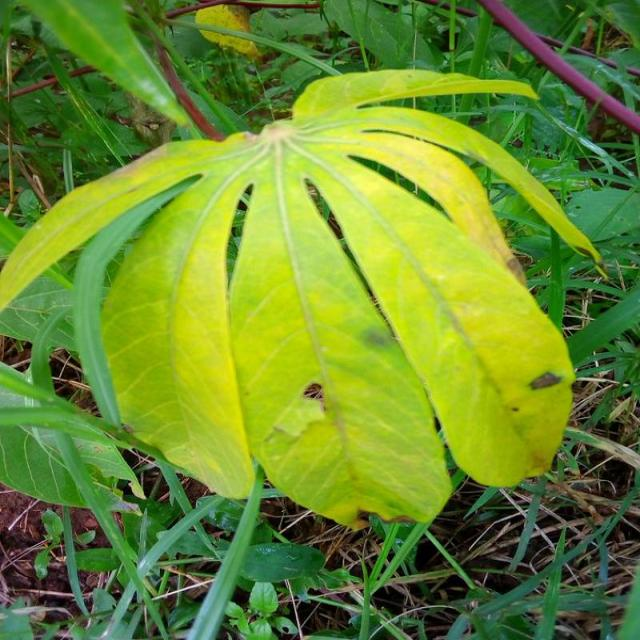cassava leaf: (1, 67, 603, 532)
